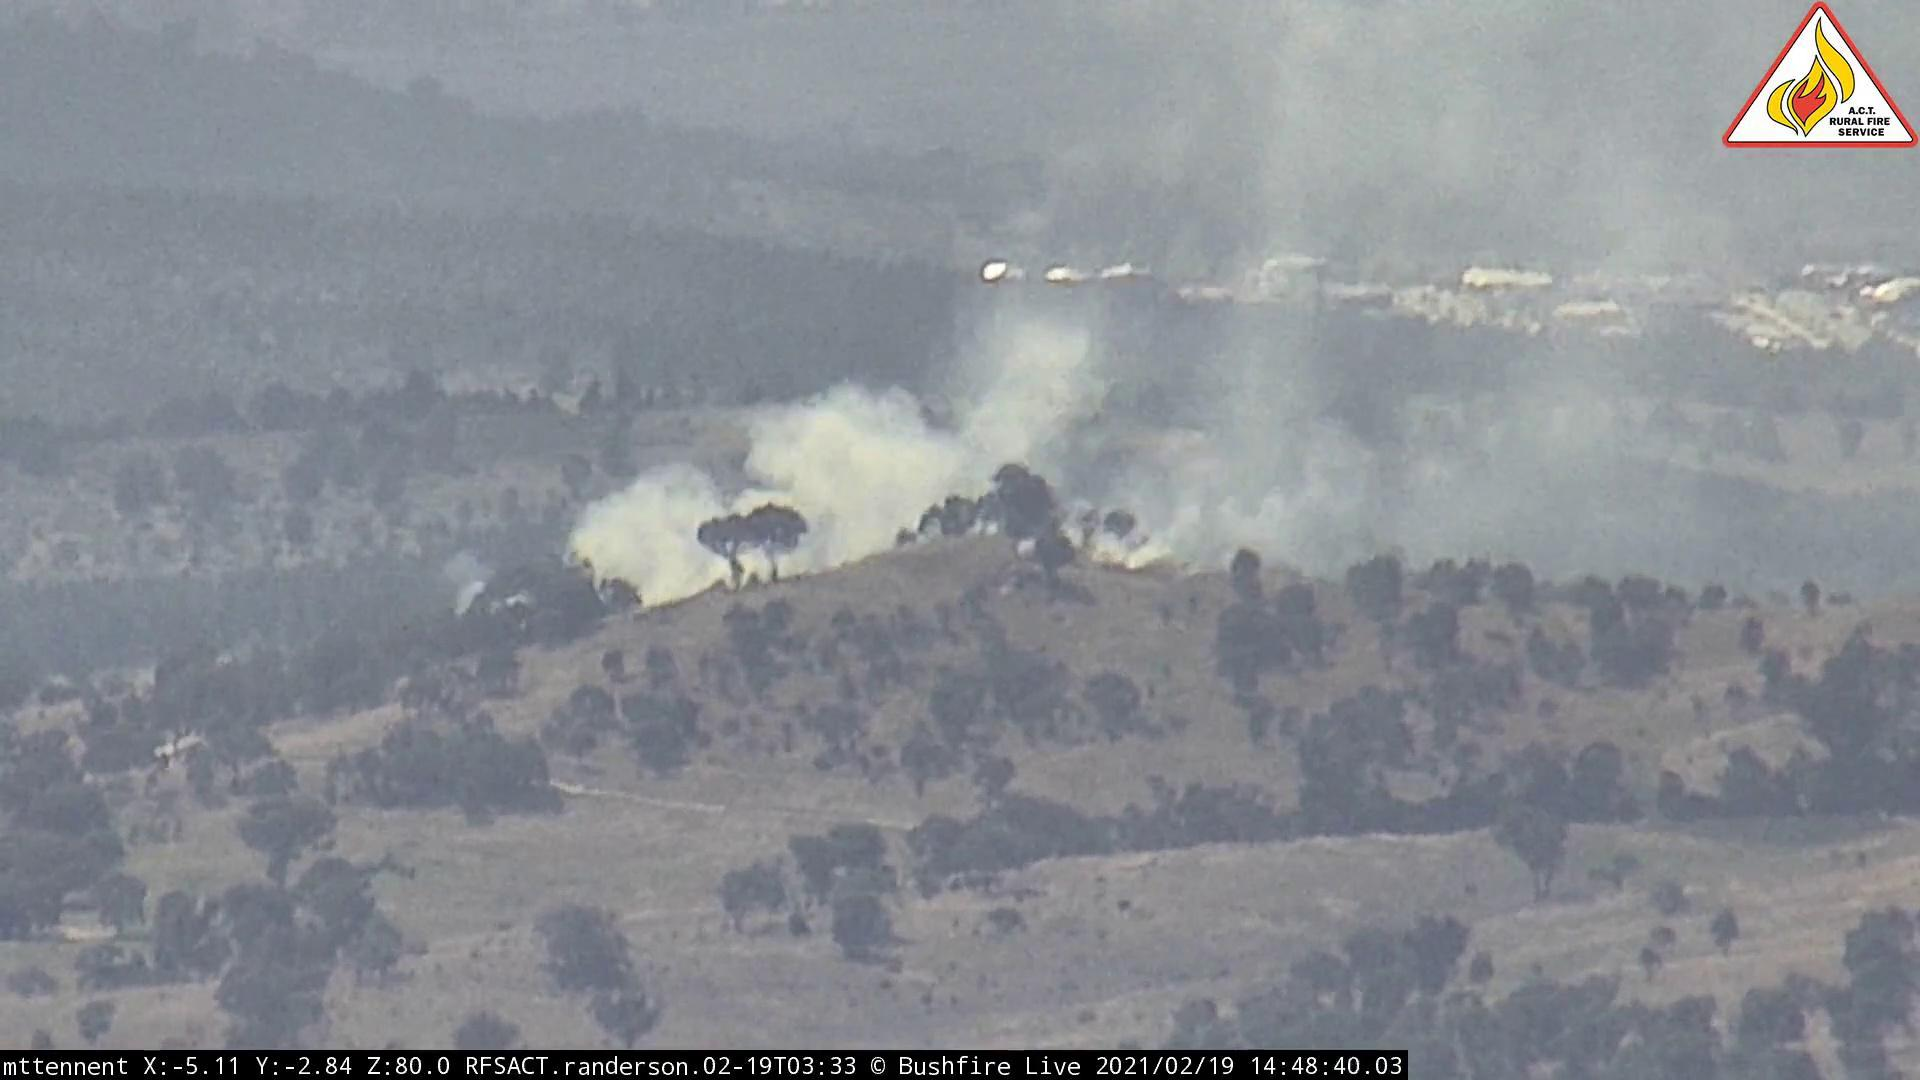instance_salient_object: (516, 66, 1705, 649)
